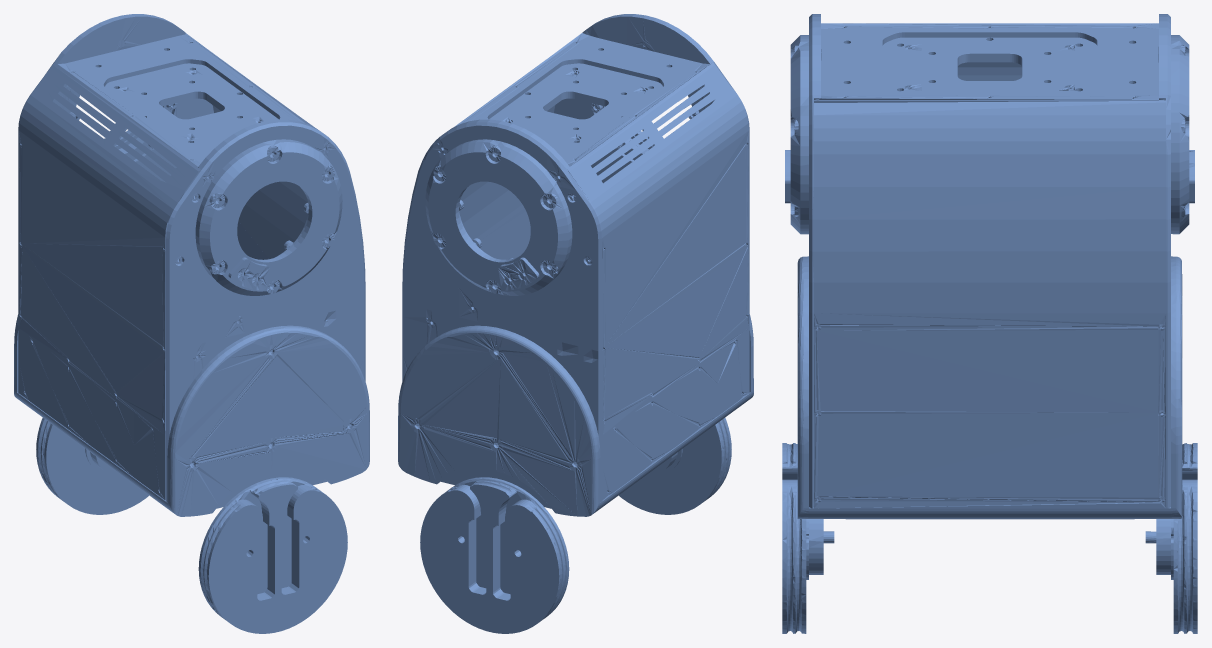
File: A2R3_T4_Chest.dae
The picture shows the model from 3 angles, left to right: view 1: azimuth 30°, elevation 25°; view 2: azimuth 150°, elevation 25°; view 3: azimuth 270°, elevation 25°; orthographic projection. The views are drawn at different scales.
Parts seen in each view (by area): view 1: A2R3_T4_Chest; view 2: A2R3_T4_Chest; view 3: A2R3_T4_Chest.
Part boxes in pixels (x1=…): A2R3_T4_Chest: x1=14, y1=14, x2=369, y2=633; A2R3_T4_Chest: x1=398, y1=14, x2=753, y2=633; A2R3_T4_Chest: x1=782, y1=14, x2=1197, y2=633.
Bounding box in the file's own units: 0.1461 × 0.2184 × 0.3479.
